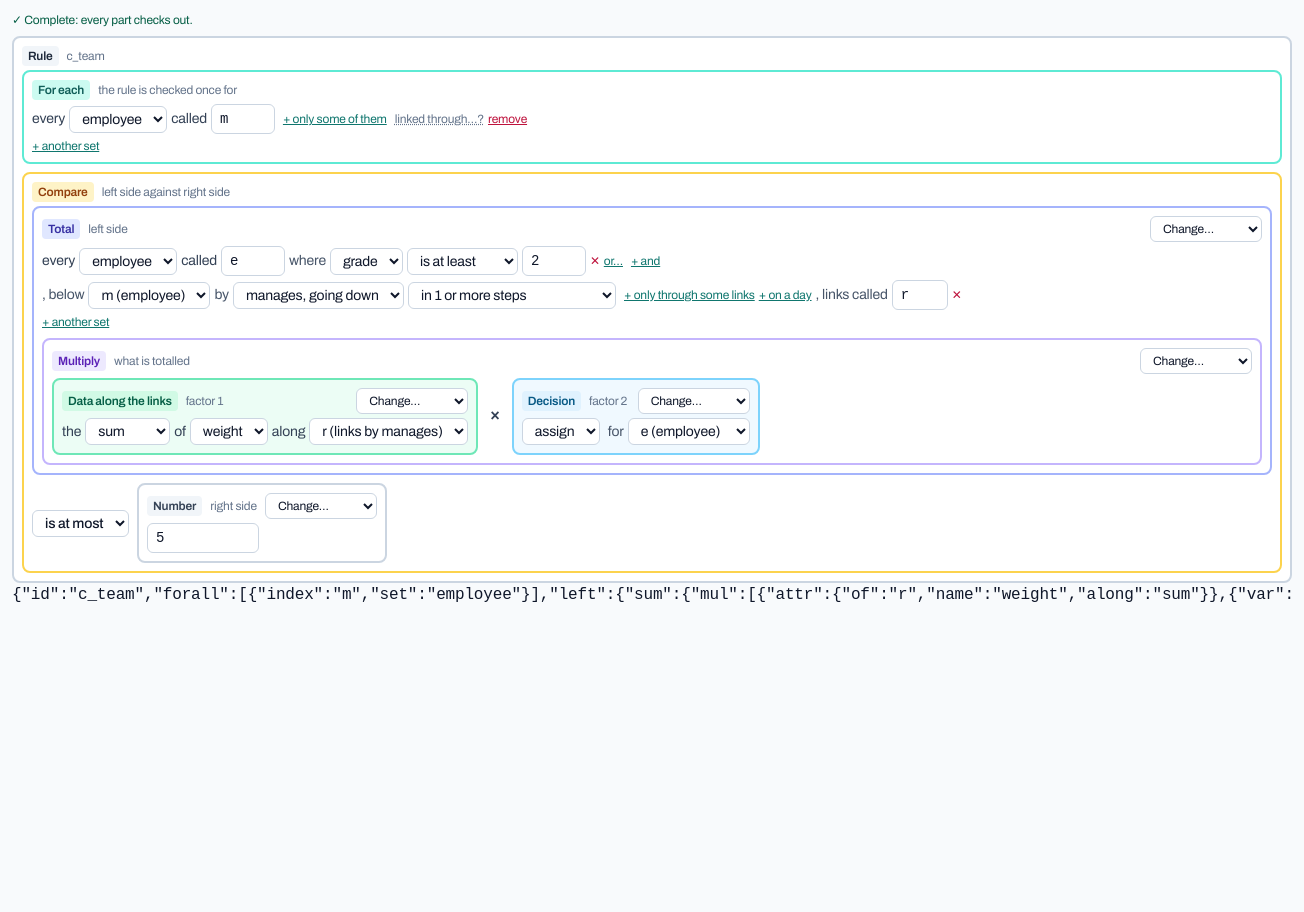
Scenario: walks along a relationship (a hierarchy) › takes the combination off when the walk is cut back to one step
Select "in 1 step" in the dropdown named "left side: runs over: set 1: walk: how far" at (512, 295), box x1=408 y1=282 x2=616 y2=308
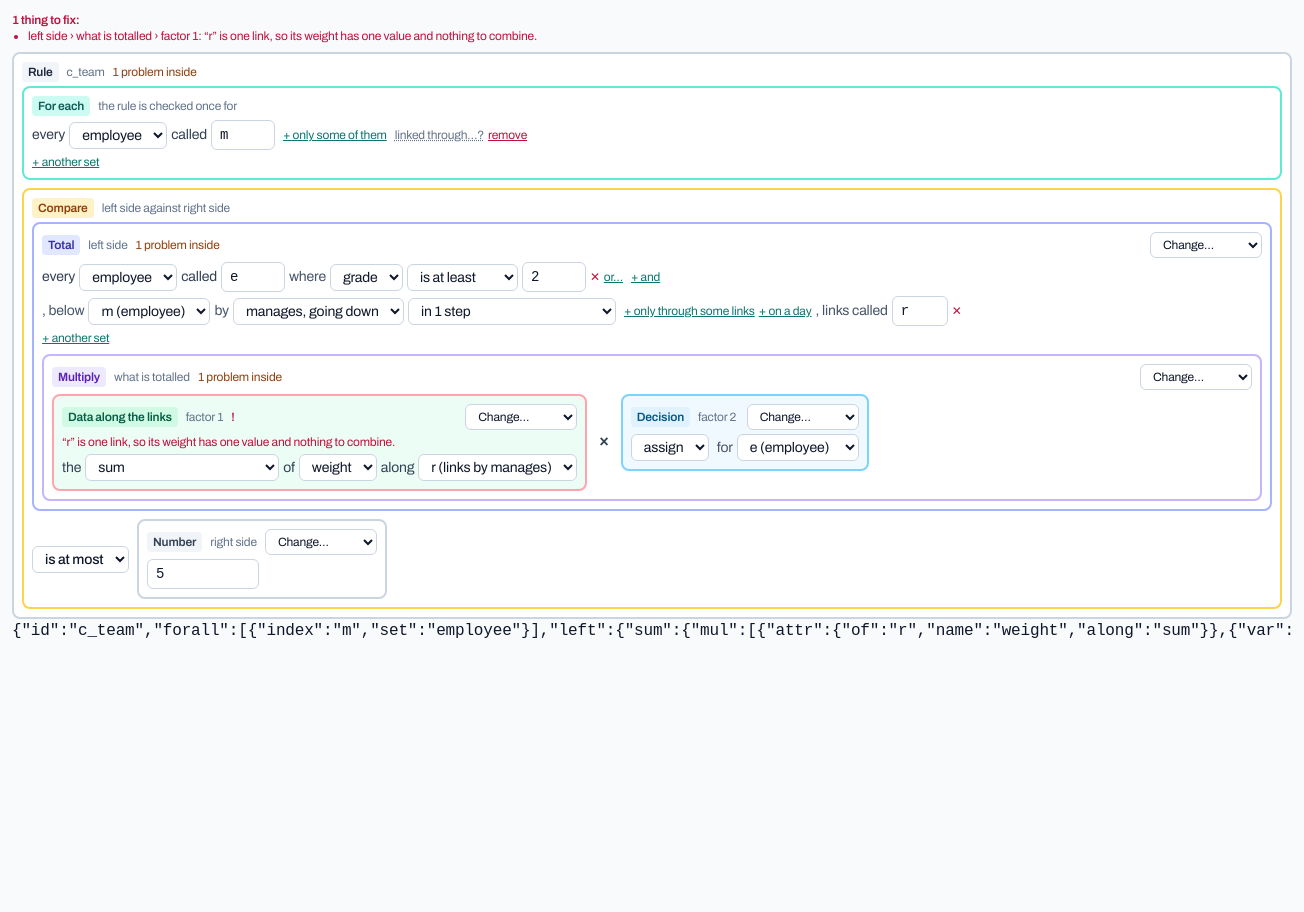
Check: the message shows "“r” is one link, so its weight has one value", box x1=28 y1=29 x2=537 y2=43
Select "(one value, no combining)" in the dropdown named "factor 1: how the links combine" at (182, 468), box x1=85 y1=454 x2=279 y2=481
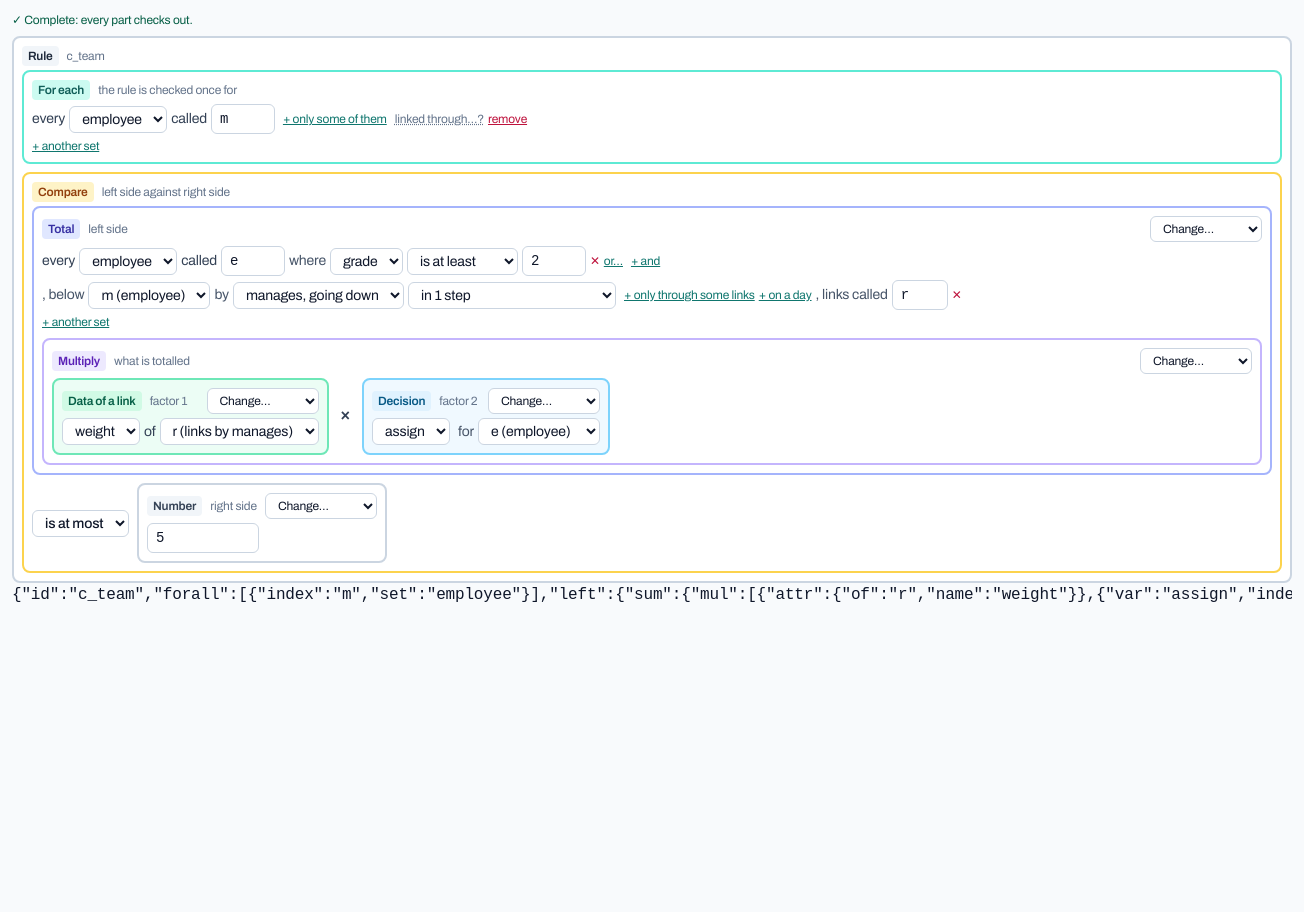
Check: the message shows "Complete", box x1=12 y1=13 x2=193 y2=27
